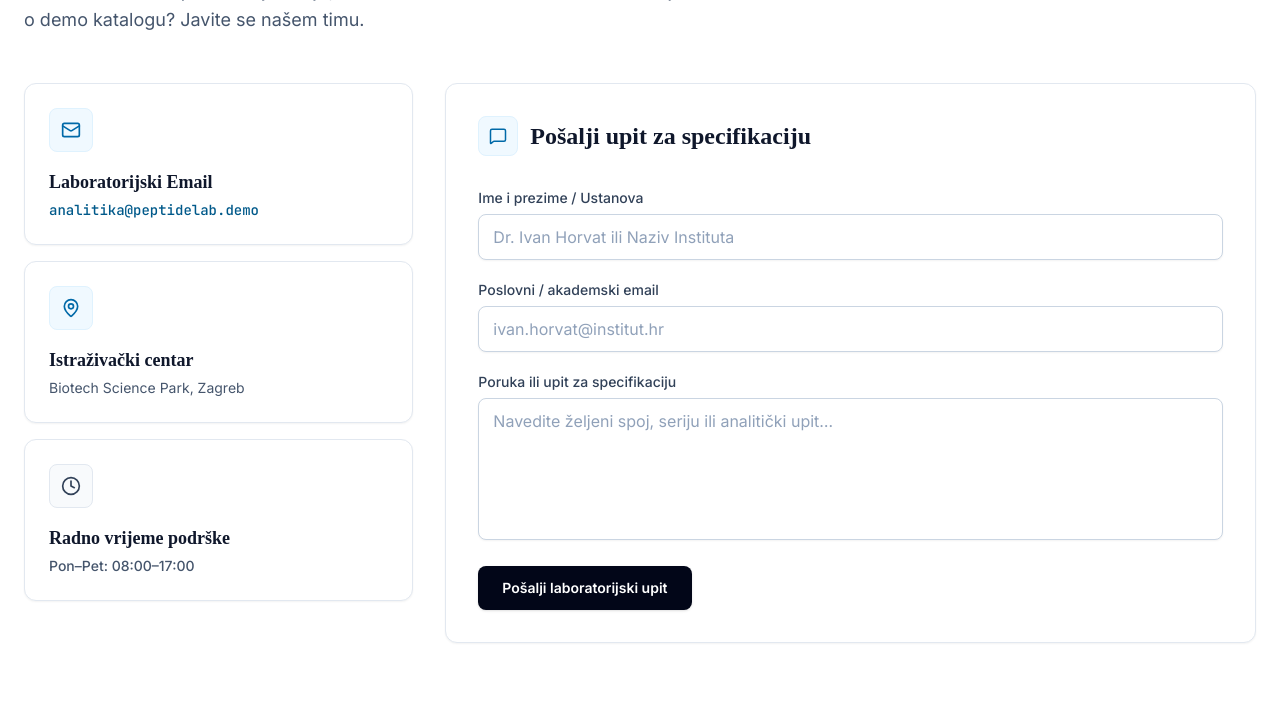
it: Contact Page › displays validation errors when submitting invalid empty form
(page scrolled)
What coordinates should you click on to do the following:
click the button "Pošalji laboratorijski upit"
I would click on:
 (585, 588)
Its box is [478,566,692,610].
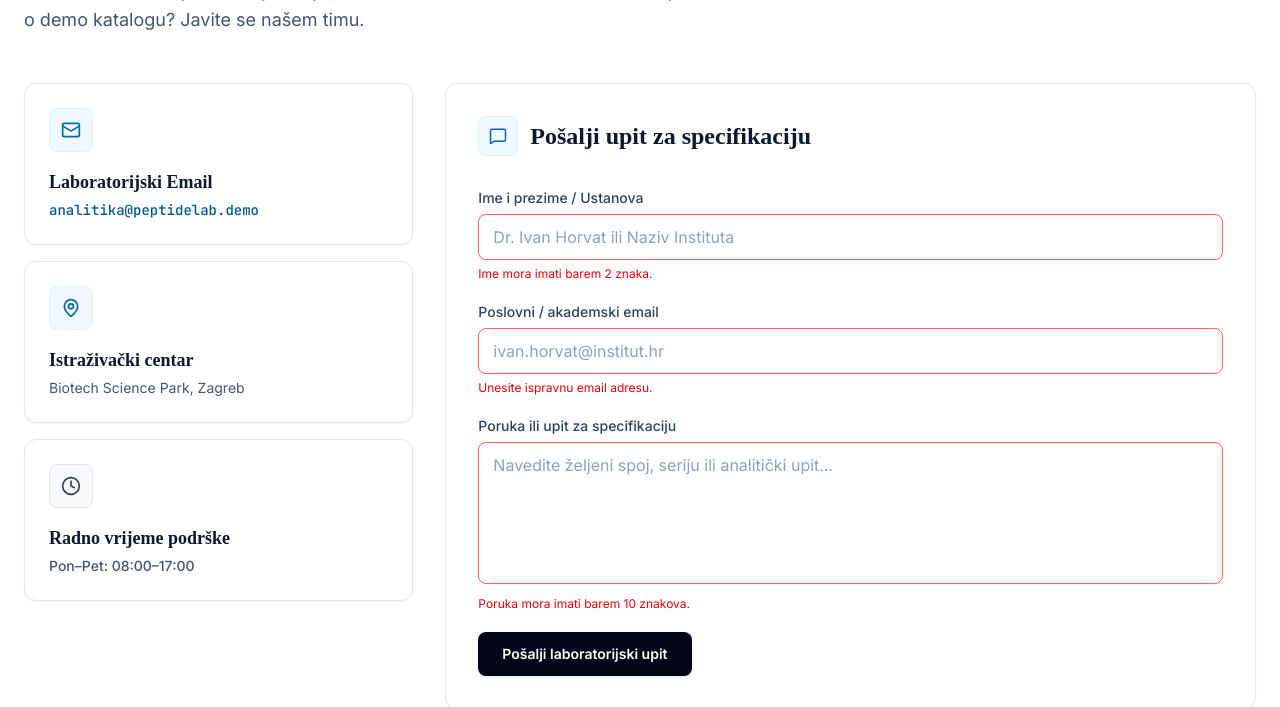
Check: the text "Ime mora imati barem 2 znaka." is shown, box [478,266,652,280]
Check: the text "Unesite ispravnu email adresu." is shown, box [478,380,652,394]
Check: the text "Poruka mora imati barem 10 znakova." is shown, box [478,596,690,610]
